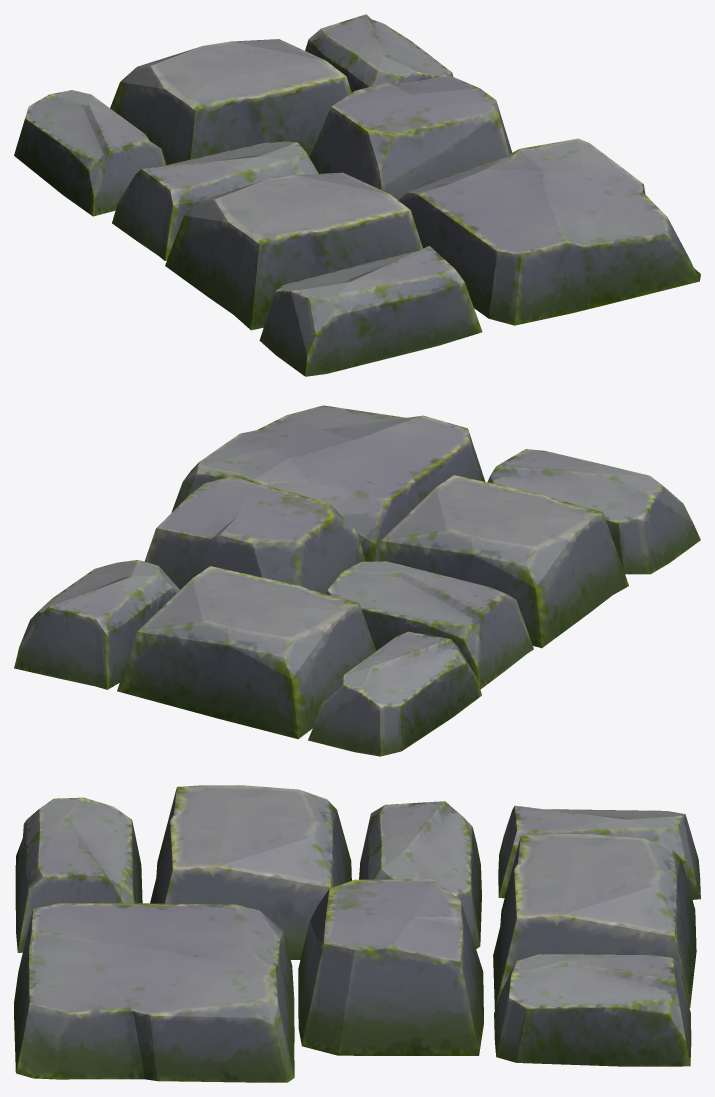
Rendered from RockPath_Square_Small_3.glb.
3 views of the same model, one above another, from view 1: azimuth 30°, elevation 25°; view 2: azimuth 150°, elevation 25°; view 3: azimuth 270°, elevation 25° (orthographic). The views are drawn at different scales.
Visible parts, largest first — view 1: RockPath_Square_Small_3; view 2: RockPath_Square_Small_3; view 3: RockPath_Square_Small_3.
Part boxes in pixels (bbox=[...]): RockPath_Square_Small_3: bbox=[14, 14, 700, 376]; RockPath_Square_Small_3: bbox=[14, 405, 700, 756]; RockPath_Square_Small_3: bbox=[14, 785, 700, 1082].
Bounding box in the file's own units: 0.8359 × 0.1736 × 1.08.
Materials: 1 (1 with a texture image).
